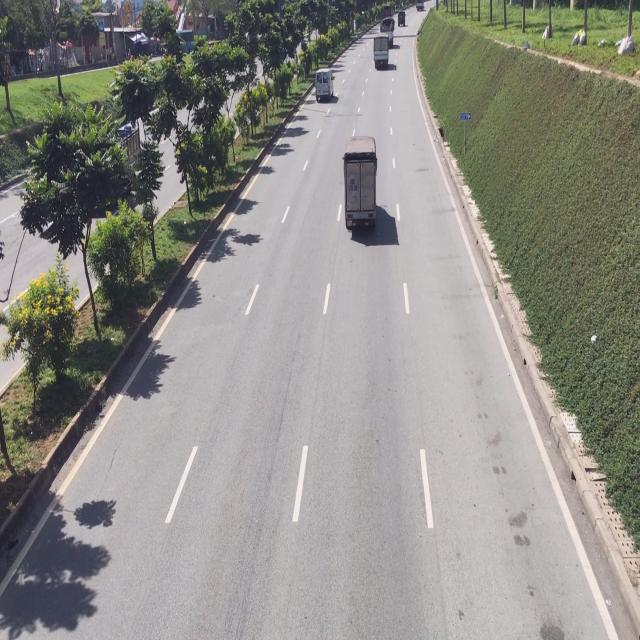bus: (314, 70, 335, 103)
truck: (342, 137, 378, 234), (374, 32, 392, 70)
